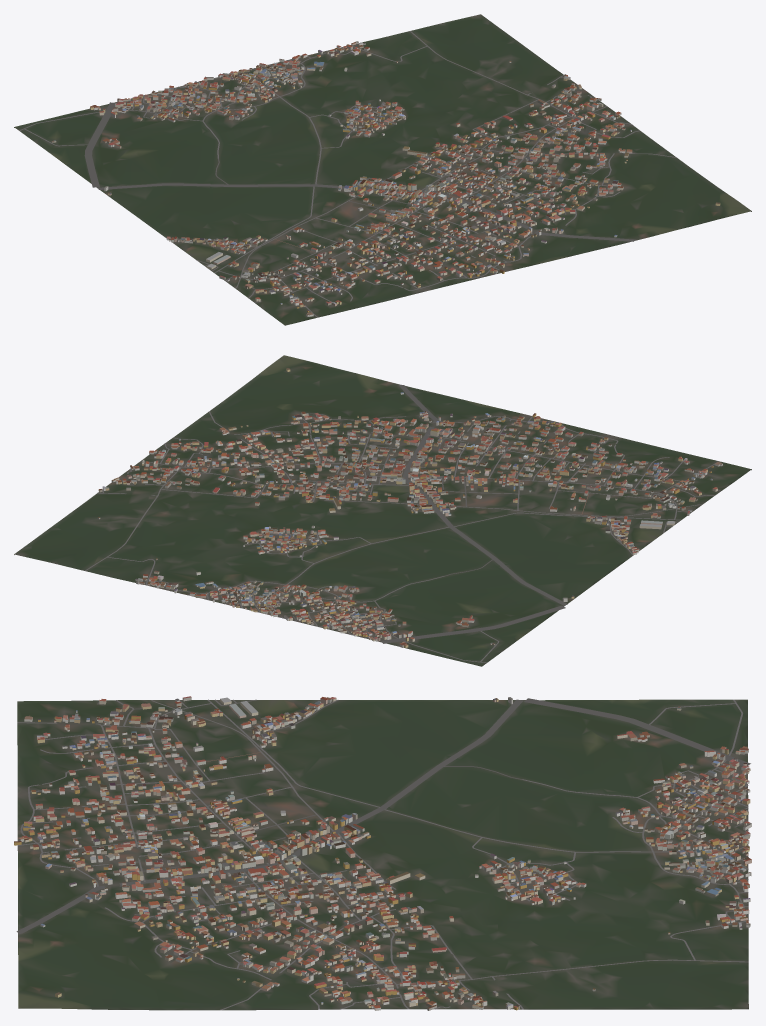
The picture shows the model from 3 angles, top to bottom: view 1: azimuth 30°, elevation 25°; view 2: azimuth 150°, elevation 25°; view 3: azimuth 270°, elevation 25°; orthographic projection. The views are drawn at different scales.
Parts seen in each view (by area): view 1: ground, buildings, roads; view 2: ground, buildings, roads; view 3: ground, buildings, roads.
Boxes of the visible parts, x1,y1,x2,y2 form: ground: [14, 14, 751, 325]; buildings: [51, 41, 720, 316]; roads: [19, 31, 676, 317]; ground: [14, 355, 751, 666]; buildings: [97, 368, 722, 648]; roads: [84, 384, 720, 662]; ground: [17, 699, 748, 1010]; buildings: [14, 696, 751, 1010]; roads: [16, 698, 750, 1010].
Size of the model in its own units: 1413 by 23.22 by 1416.
